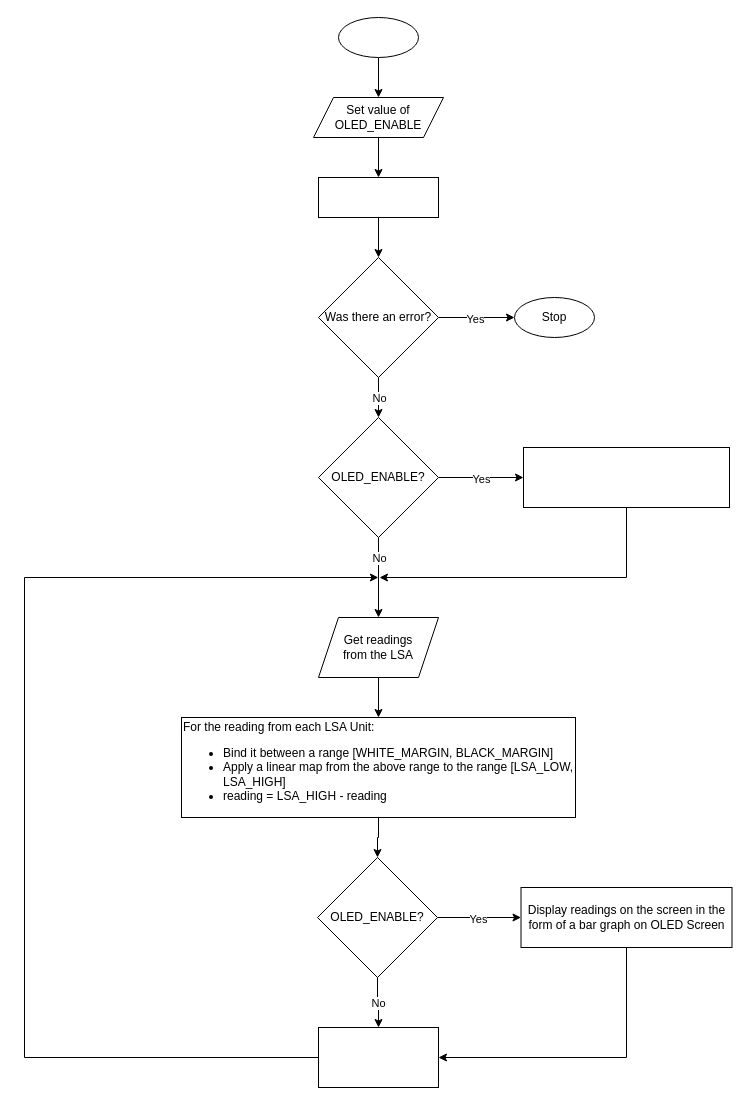
Image size: 750x1105. Some labels were removed from this diagram. The shapes that lost their labels are listed below. From the top down, each one's centre as x and y in pixels, then its label:
At (378,37): "Start".
At (378,197): "Enable Line Sensor Array".
At (626,477): "Initialise OLED Screen Wait 1 second Clear the screen".
At (378,1057): "Log the values of the readings and wait 10 miliseconds.".
